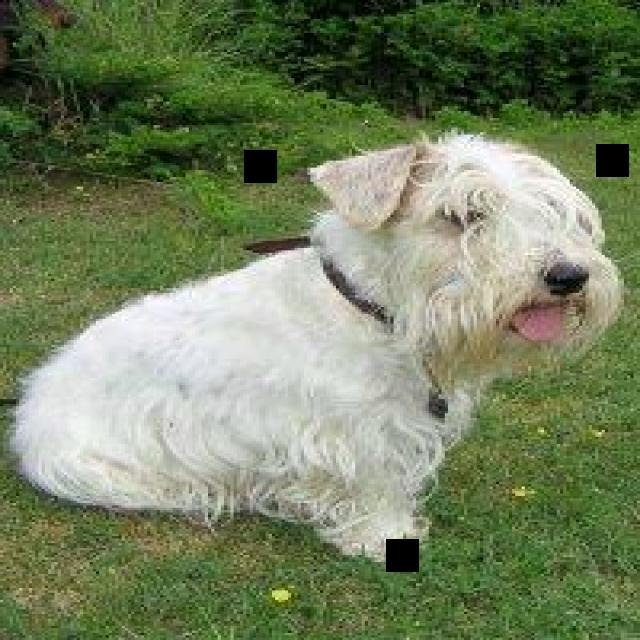adult_dog: (3, 127, 629, 568)
